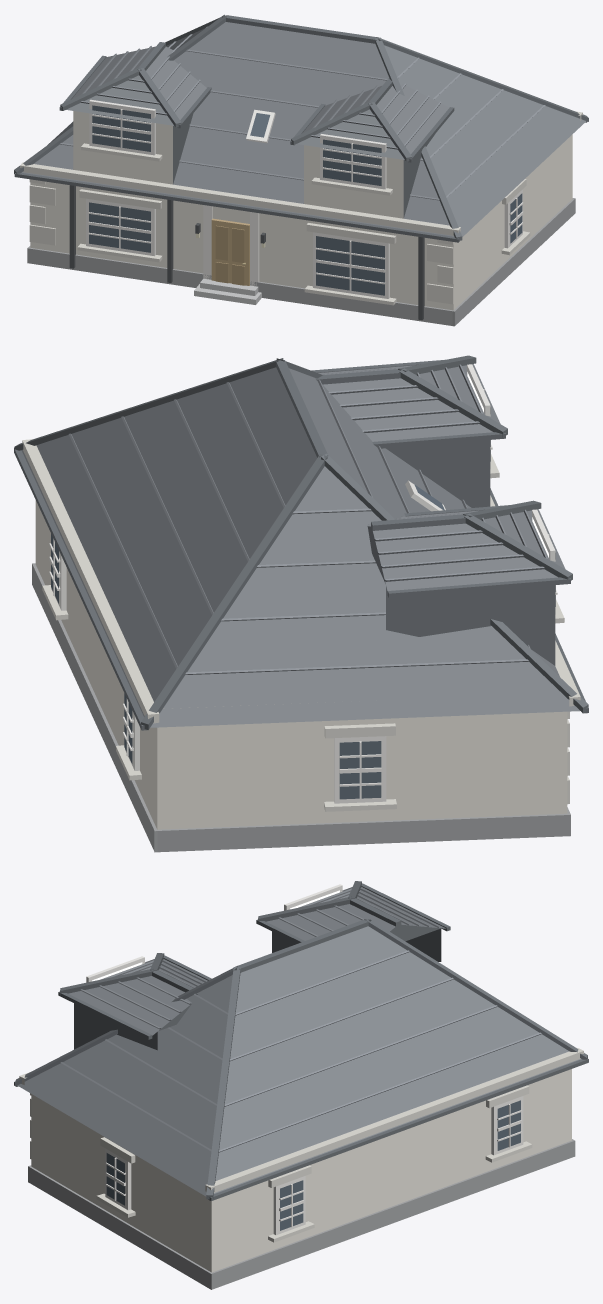
The picture shows the model from 3 angles, top to bottom: view 1: azimuth 30°, elevation 25°; view 2: azimuth 150°, elevation 25°; view 3: azimuth 270°, elevation 25°; orthographic projection. The views are drawn at different scales.
Visible parts, largest first — view 1: slate, harl_cream, slate_dk, dress_cream, frame, plinth, slate_lt, window_glass_004, window_glass_003, pipe, window_glass_001, window_glass_002 (+3 smaller); view 2: slate, harl_cream, slate_dk, plinth, slate_lt, dress_cream, frame, window_glass_006; view 3: slate, harl_cream, slate_dk, plinth, dress_cream, slate_lt, frame, window_glass_009, window_glass_008, window_glass_007.
Part boxes in pixels (bbox=[...]): slate: bbox=[22, 22, 586, 236]; harl_cream: bbox=[30, 111, 572, 310]; slate_dk: bbox=[14, 14, 588, 242]; dress_cream: bbox=[20, 111, 582, 305]; frame: bbox=[86, 99, 523, 298]; plinth: bbox=[27, 198, 575, 326]; slate_lt: bbox=[60, 26, 545, 200]; window_glass_004: bbox=[316, 236, 384, 295]; window_glass_003: bbox=[89, 202, 150, 252]; pipe: bbox=[69, 185, 424, 320]; window_glass_001: bbox=[92, 105, 150, 151]; window_glass_002: bbox=[323, 139, 381, 185]; slate: bbox=[21, 364, 579, 727]; harl_cream: bbox=[35, 500, 567, 829]; slate_dk: bbox=[14, 355, 588, 730]; plinth: bbox=[32, 563, 570, 852]; slate_lt: bbox=[68, 364, 547, 674]; dress_cream: bbox=[22, 439, 580, 811]; frame: bbox=[49, 364, 557, 803]; window_glass_006: bbox=[339, 741, 381, 799]; slate: bbox=[17, 887, 581, 1196]; harl_cream: bbox=[31, 1069, 571, 1272]; slate_dk: bbox=[14, 881, 588, 1201]; plinth: bbox=[28, 1139, 575, 1289]; dress_cream: bbox=[19, 1048, 583, 1242]; slate_lt: bbox=[60, 888, 541, 1152]; frame: bbox=[86, 884, 523, 1235]; window_glass_009: bbox=[497, 1100, 520, 1150]; window_glass_008: bbox=[280, 1180, 303, 1230]; window_glass_007: bbox=[106, 1153, 124, 1205].
Size of the model in its own units: 15.44 by 6.4 by 14.76.
